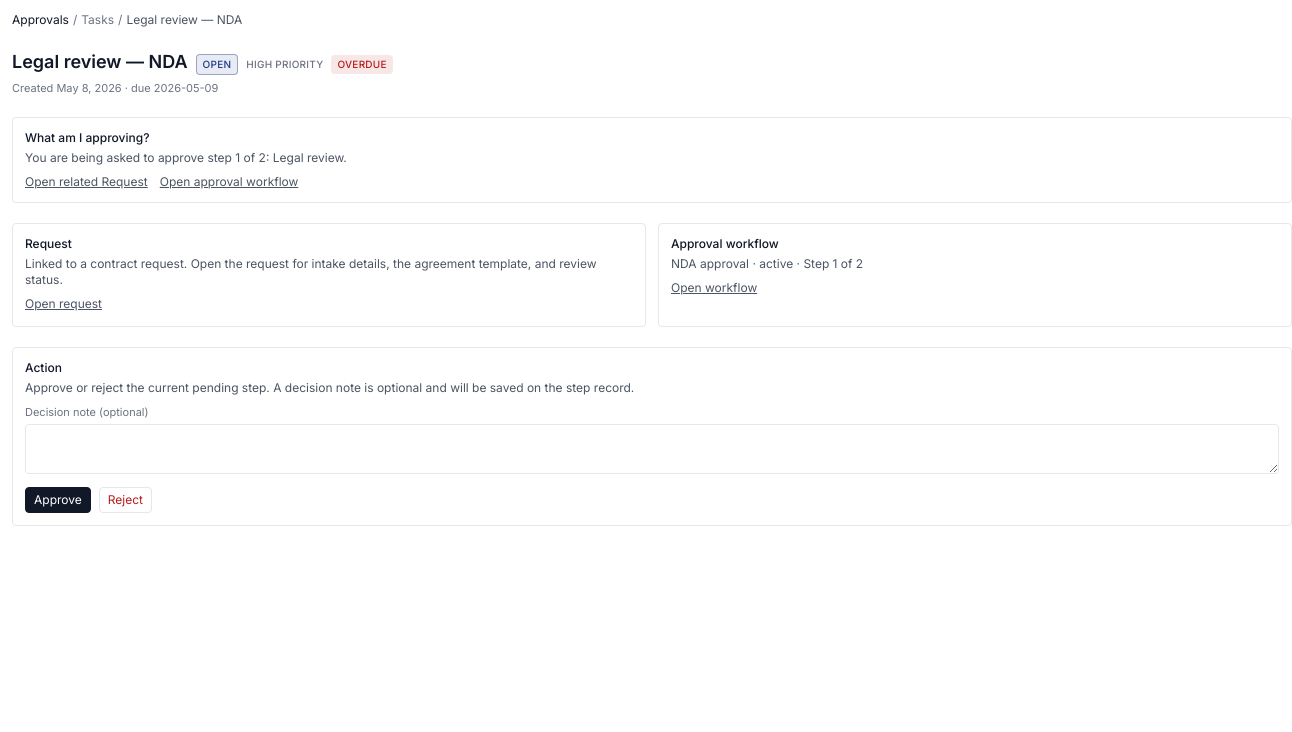
Test case: ApprovalTaskDetailPage › renders an error state on approve failure without crashing
Click the button with test id "approval-task-detail-approve": (58, 500) [25, 486, 91, 512]
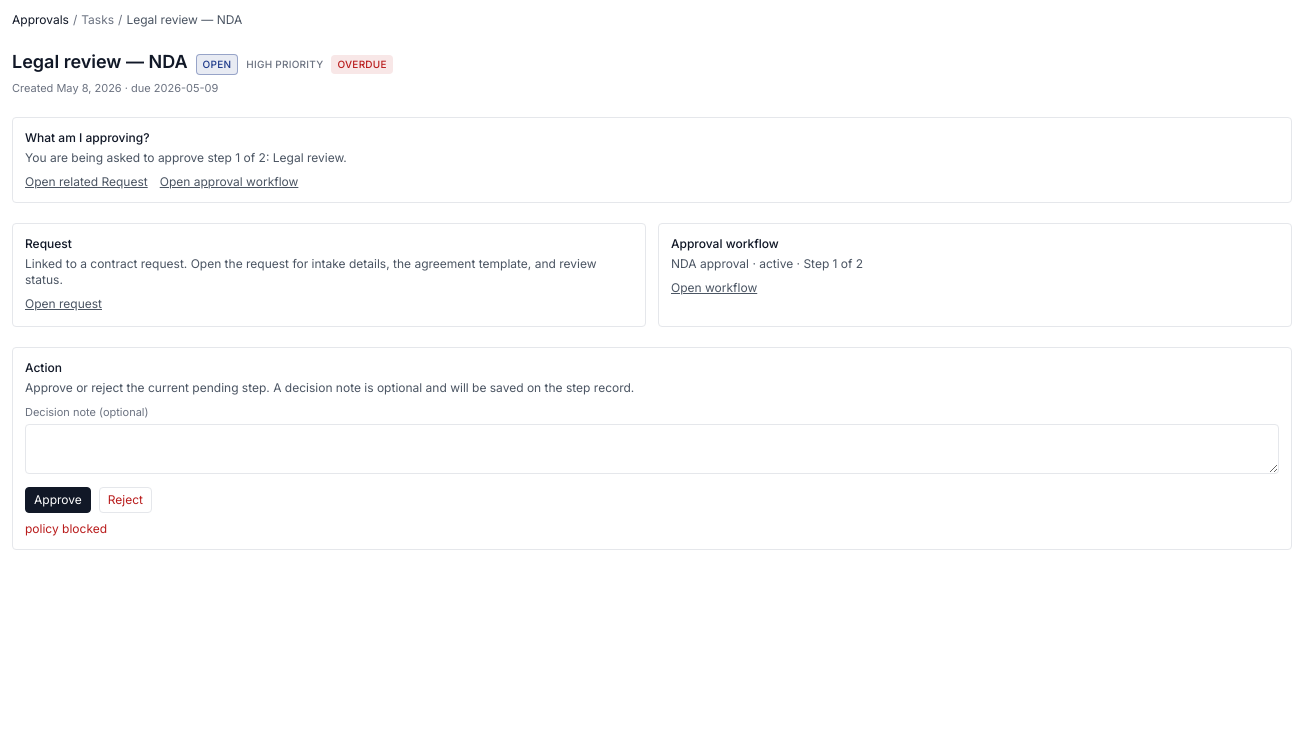
Result: the text "policy blocked" is shown at [25, 520, 107, 536]
